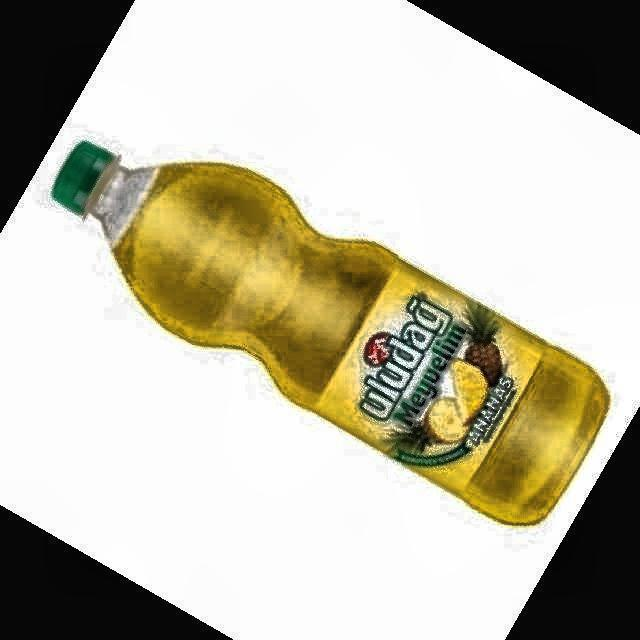plastic: (52, 141, 609, 525)
